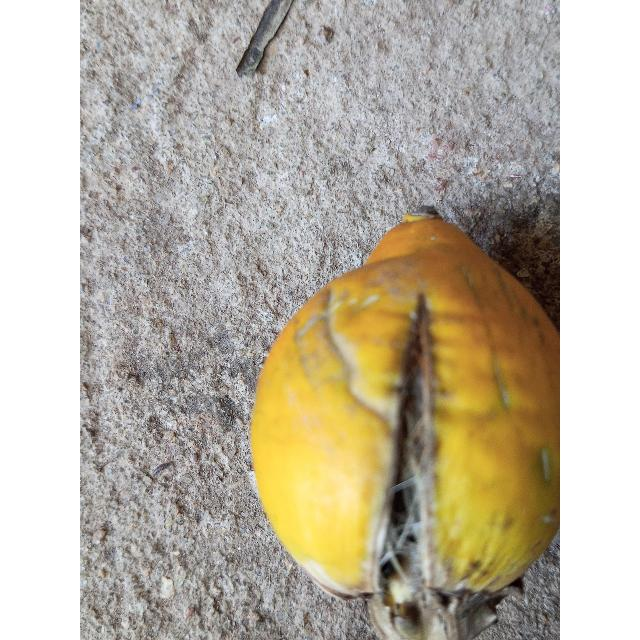damaged: (251, 207, 560, 640)
